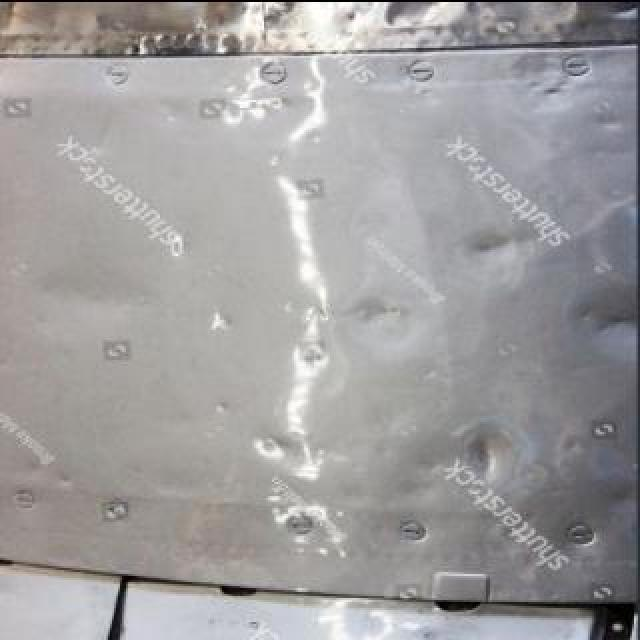dent: (463, 230, 521, 262), (467, 420, 499, 476)
